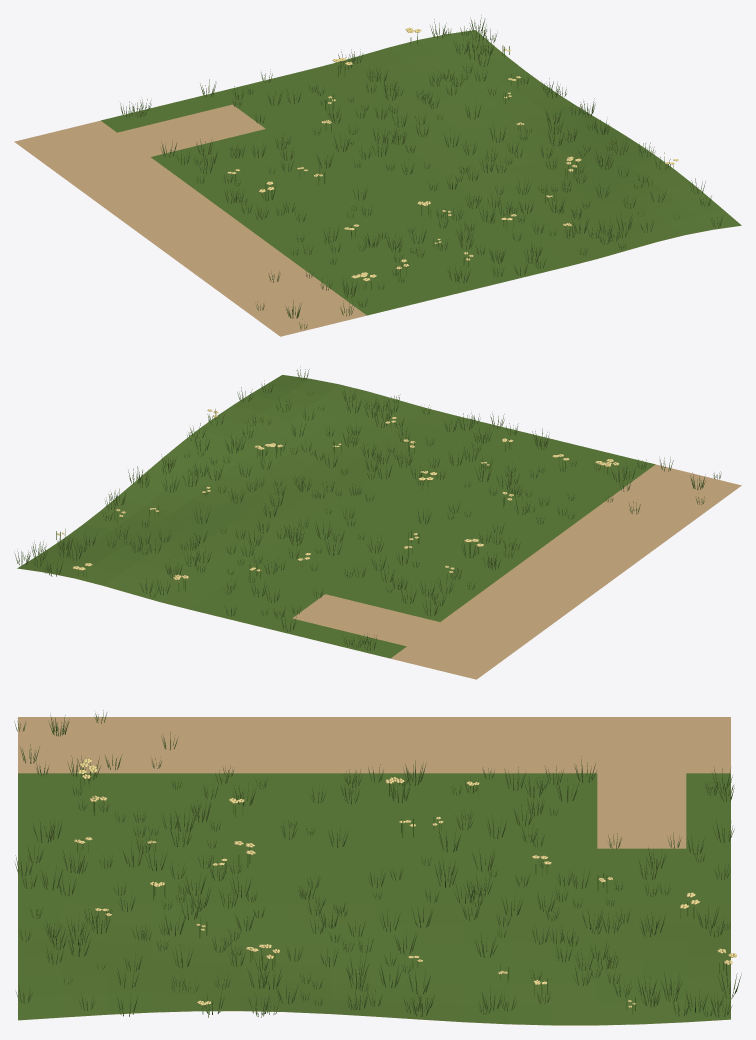
The model's file is terrain-1-1.glb.
3 renders of one model, top to bottom at view 1: azimuth 30°, elevation 25°; view 2: azimuth 150°, elevation 25°; view 3: azimuth 270°, elevation 25°, orthographic. The views are drawn at different scales.
Parts seen in each view (by area): view 1: terrain-1-1__grass, terrain-1-1__sand, terrain-1-1__petal, terrain-1-1__leaf; view 2: terrain-1-1__grass, terrain-1-1__sand, terrain-1-1__petal, terrain-1-1__leaf; view 3: terrain-1-1__grass, terrain-1-1__sand, terrain-1-1__petal, terrain-1-1__leaf.
Boxes of the visible parts, x1=… form: terrain-1-1__grass: x1=101, y1=15, x2=741, y2=329; terrain-1-1__sand: x1=14, y1=104, x2=738, y2=336; terrain-1-1__petal: x1=227, y1=27, x2=678, y2=281; terrain-1-1__leaf: x1=231, y1=32, x2=673, y2=291; terrain-1-1__grass: x1=14, y1=366, x2=721, y2=658; terrain-1-1__sand: x1=19, y1=464, x2=741, y2=679; terrain-1-1__petal: x1=57, y1=409, x2=618, y2=579; terrain-1-1__leaf: x1=56, y1=414, x2=614, y2=591; terrain-1-1__grass: x1=14, y1=710, x2=741, y2=1025; terrain-1-1__sand: x1=18, y1=717, x2=730, y2=1025; terrain-1-1__petal: x1=74, y1=758, x2=736, y2=1007; terrain-1-1__leaf: x1=77, y1=773, x2=726, y2=1017.
Size of the model in its own units: 16.2 by 0.7629 by 16.33.
